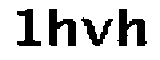1: (12, 6, 43, 52)
h: (116, 5, 151, 52), (46, 7, 79, 52)
v: (80, 16, 114, 48)
